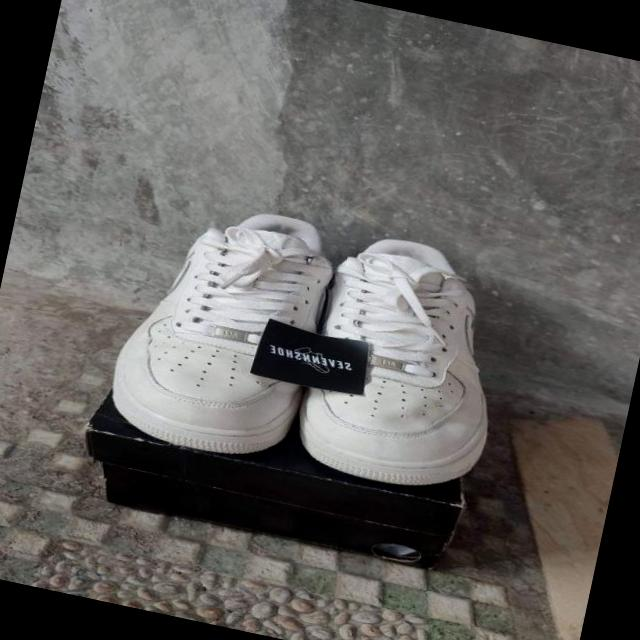nike_fake_airforce: (95, 190, 340, 475), (288, 228, 530, 510)
